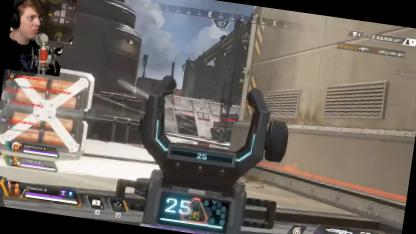Target: (215, 126, 224, 144)
